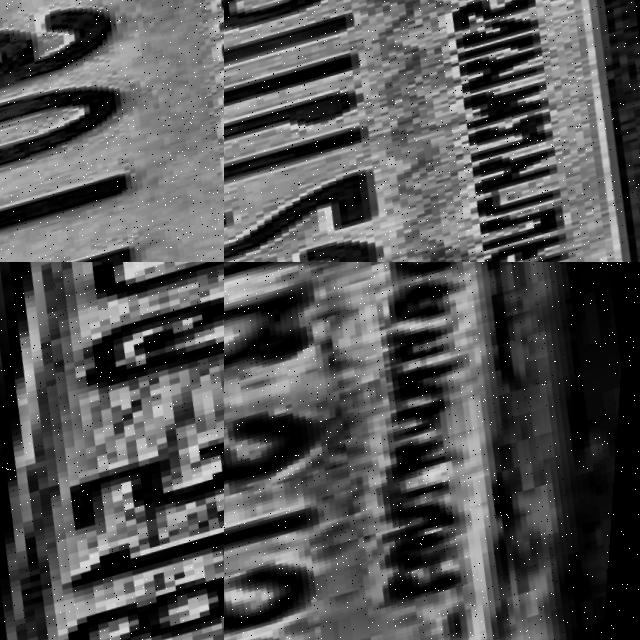license-plate: (224, 262, 640, 640), (224, 0, 640, 262), (0, 262, 224, 640), (0, 0, 224, 262)
